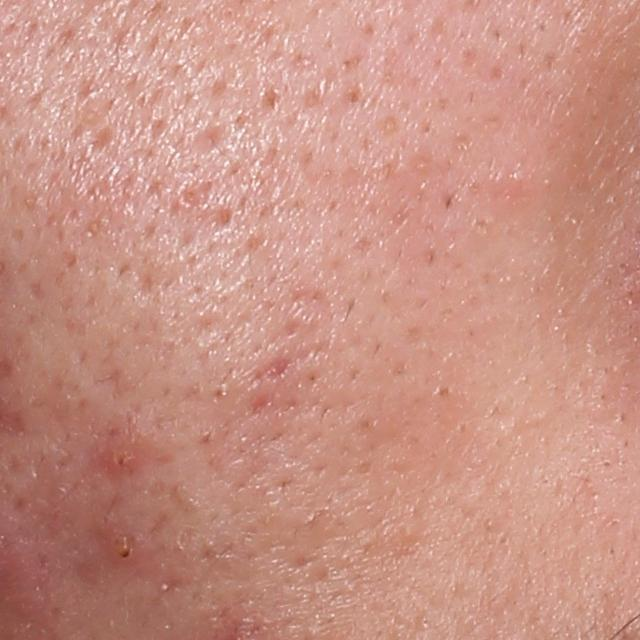atrophic_scar: (293, 285, 339, 357), (263, 350, 293, 378)
